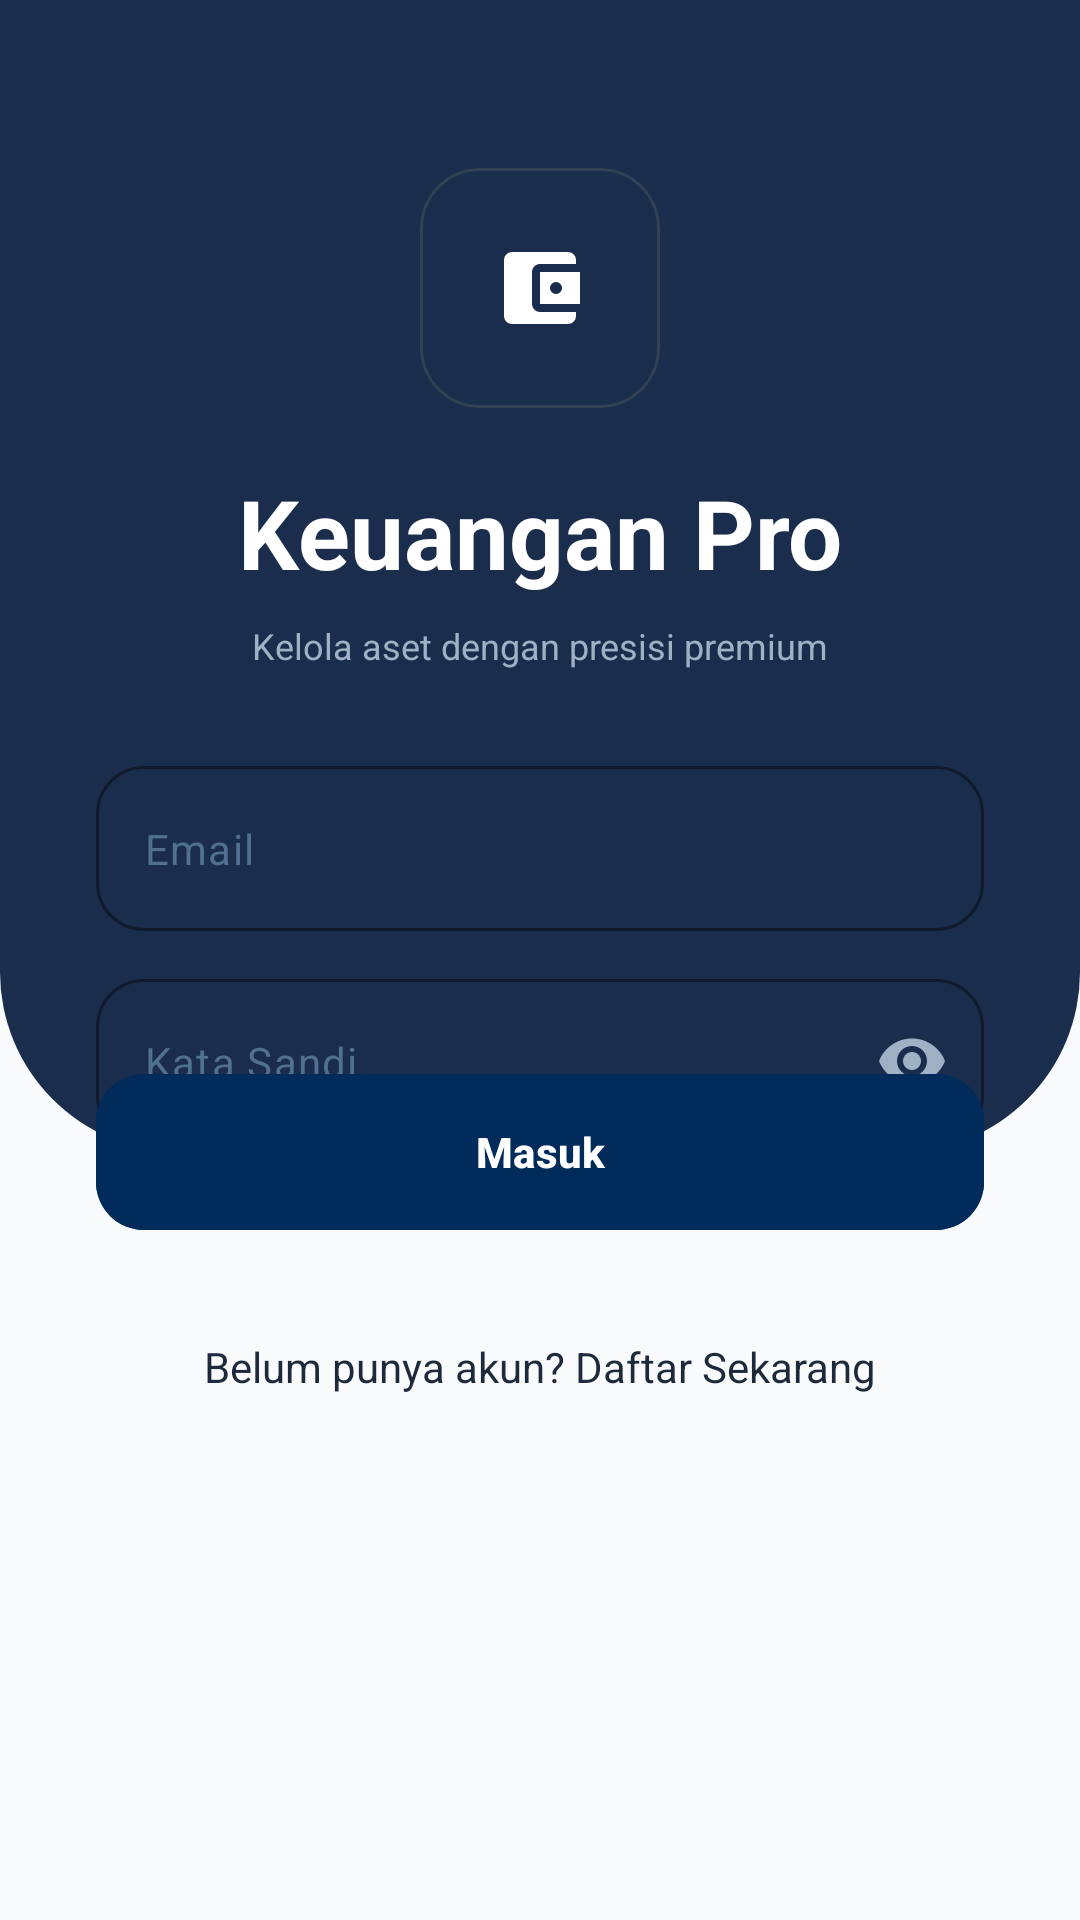

Screen size 1080 × 1920. Icon name, then its center in pixels as (x=x, y=y):
wallet: (x=542, y=288)
